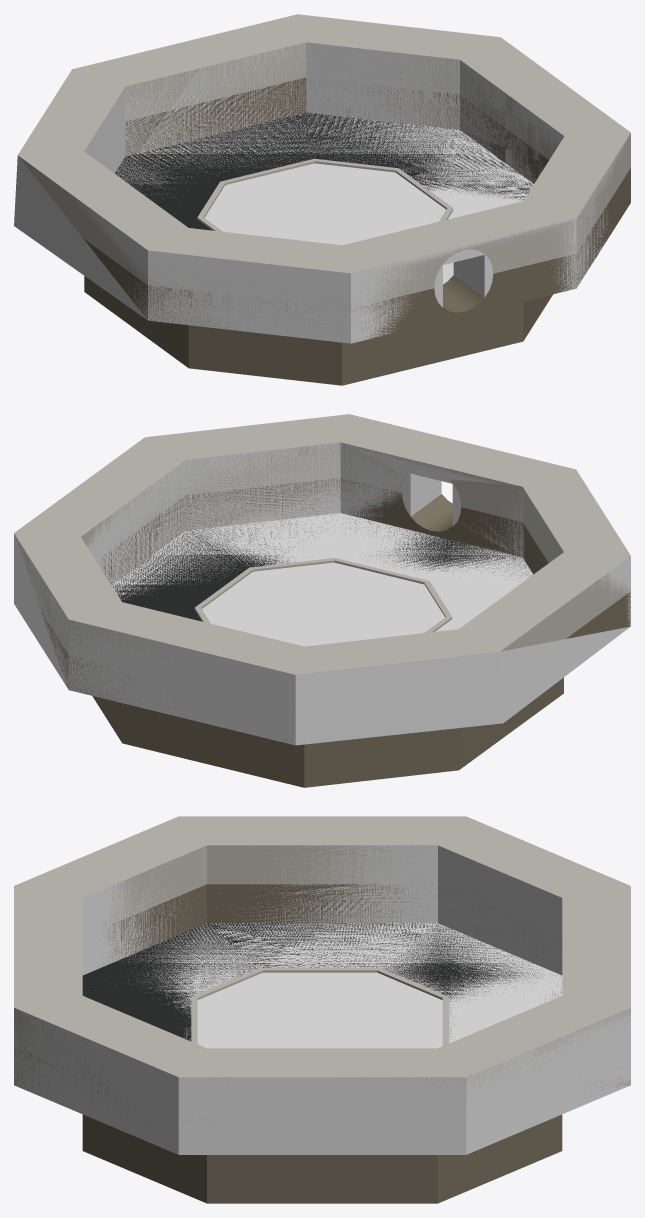
File: Vault.fbx
3 renders of one model, top to bottom at view 1: azimuth 30°, elevation 25°; view 2: azimuth 150°, elevation 25°; view 3: azimuth 270°, elevation 25°, orthographic. The views are drawn at different scales.
Visible parts, largest first — view 1: VaultFloor01, VaultFloor01Coll, VaultFloor02; view 2: VaultFloor01Coll, VaultFloor01, VaultFloor02; view 3: VaultFloor01Coll, VaultFloor01, VaultFloor02.
Boxes of the visible parts, x1,y1,x2,y2 form: VaultFloor01: (18, 14, 630, 339); VaultFloor01Coll: (14, 42, 628, 343); VaultFloor02: (84, 276, 552, 385); VaultFloor01Coll: (14, 442, 630, 745); VaultFloor01: (14, 414, 630, 707); VaultFloor02: (92, 677, 563, 787); VaultFloor01Coll: (14, 845, 630, 1154); VaultFloor01: (14, 816, 630, 1149); VaultFloor02: (82, 1114, 562, 1203).
Size of the model in its own units: 18.13 by 5.3 by 18.
